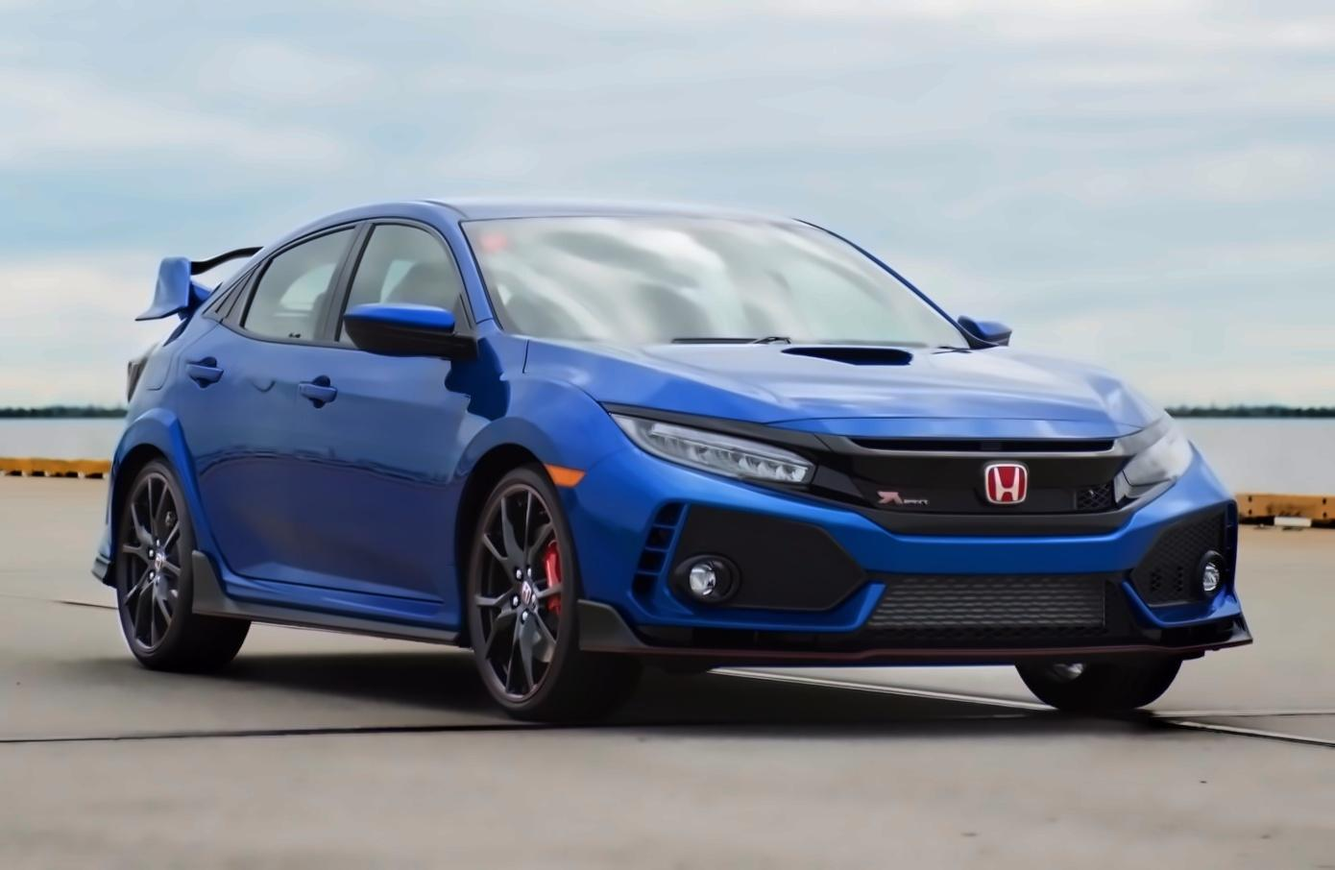Car hood: (520, 331, 1190, 444)
Driver-s door - -F-R-: (303, 205, 451, 622)
Fender - -F-R-: (453, 312, 632, 618)
Fender - -R-R-: (131, 329, 207, 567)
Front bumper: (562, 450, 1271, 675)
Headlight - -L-: (1106, 415, 1201, 514)
Headlight - -R-: (600, 404, 822, 495)
Passenger-s door - -R-R-: (178, 211, 333, 610)
Rear bumper: (82, 437, 132, 600)
Rear light - -R-: (117, 335, 167, 414)
Side bumper - -R-: (176, 543, 483, 662)
Side mirror - -L-: (946, 304, 1022, 363)
Side mirror - -R-: (335, 290, 477, 373)
